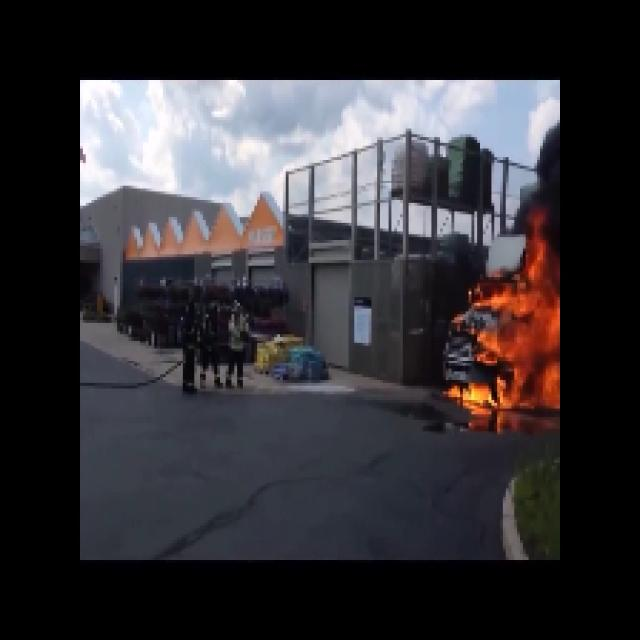fire: (475, 271, 562, 425)
smoke: (533, 136, 558, 230)
